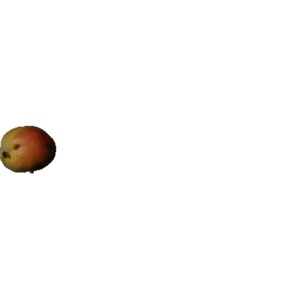mamão: (1, 125, 62, 177)
